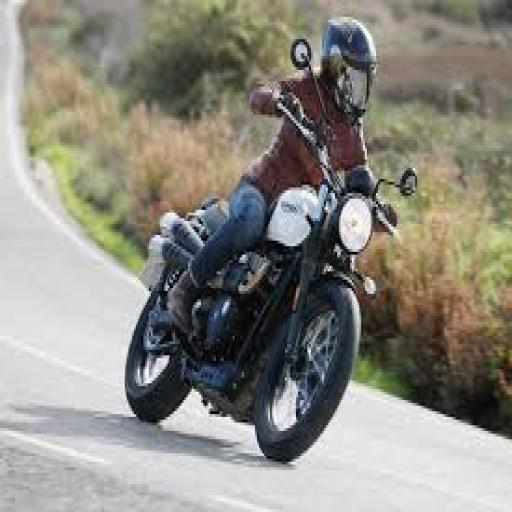helmet: (164, 14, 387, 330), (318, 14, 378, 120)
